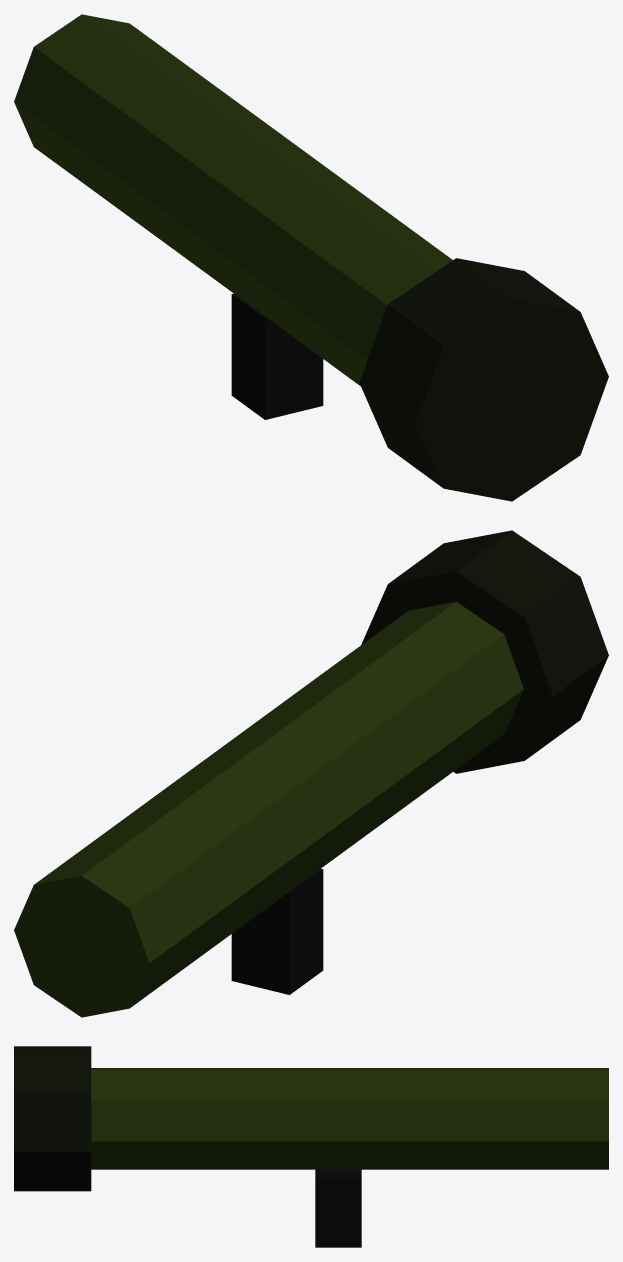
File: rocket.glb
The picture shows the model from 3 angles, top to bottom: view 1: azimuth 30°, elevation 25°; view 2: azimuth 150°, elevation 25°; view 3: azimuth 270°, elevation 25°; orthographic projection. The views are drawn at different scales.
Parts seen in each view (by area): view 1: rocket; view 2: rocket; view 3: rocket.
Part boxes in pixels (x1,y1,x2,y2): rocket: (14,14,608,501); rocket: (14,530,608,1017); rocket: (14,1046,608,1247).
Bounding box in the file's own units: 0.2 × 0.27 × 0.77.
